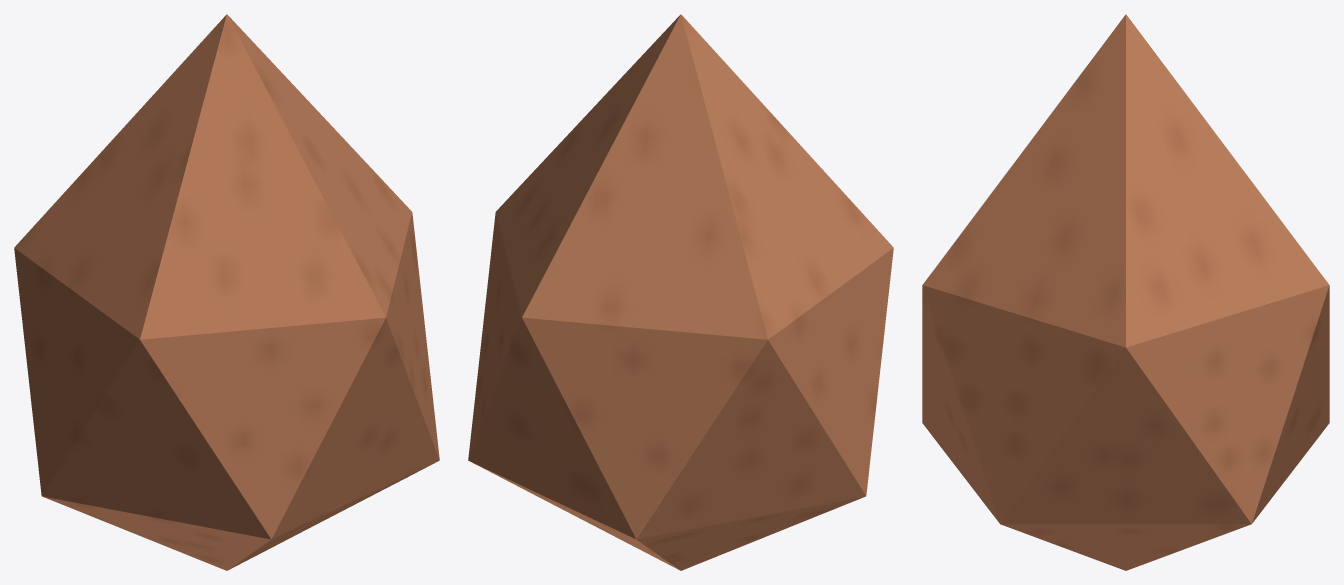
Rendered from egg.glb.
The picture shows the model from 3 angles, left to right: view 1: azimuth 30°, elevation 25°; view 2: azimuth 150°, elevation 25°; view 3: azimuth 270°, elevation 25°; orthographic projection.
Parts seen in each view (by area): view 1: Icosphere; view 2: Icosphere; view 3: Icosphere.
Boxes of the visible parts, bbox=[...] form: Icosphere: bbox=[14, 14, 439, 570]; Icosphere: bbox=[468, 14, 893, 570]; Icosphere: bbox=[922, 14, 1329, 570].
Size of the model in its own units: 1.79 by 2.57 by 1.7.
Materials: 1 (1 with a texture image).
